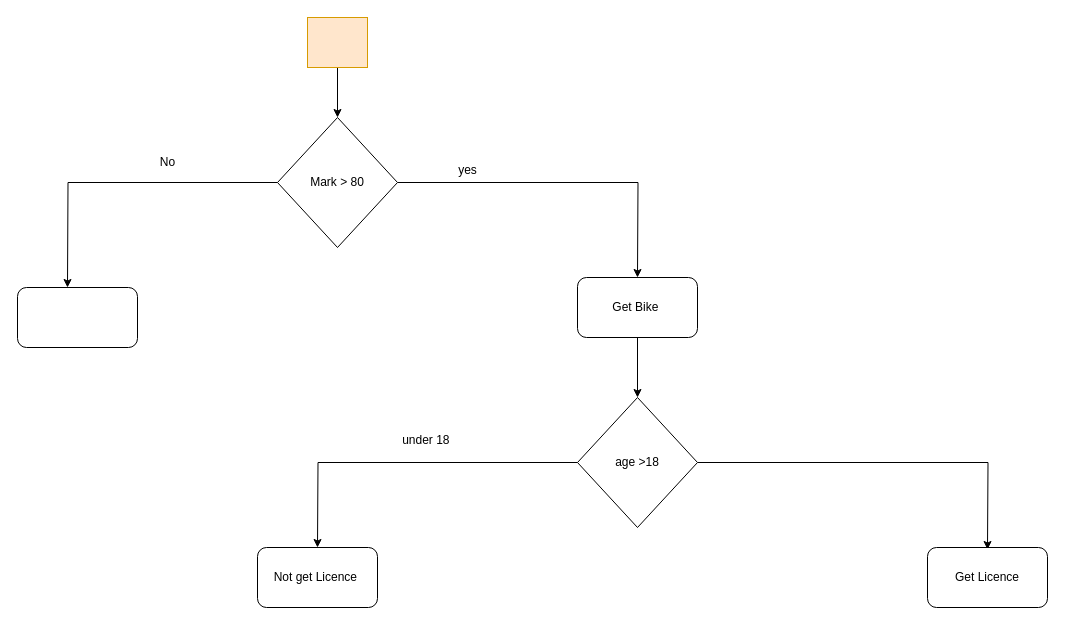
Some shapes in this 1065 by 625 pixel diagram are drawn without their labels. The centre of each missing label's shape, as x and y in pixels:
Not get Bike: the point at 77,317
Start: the point at 337,42
